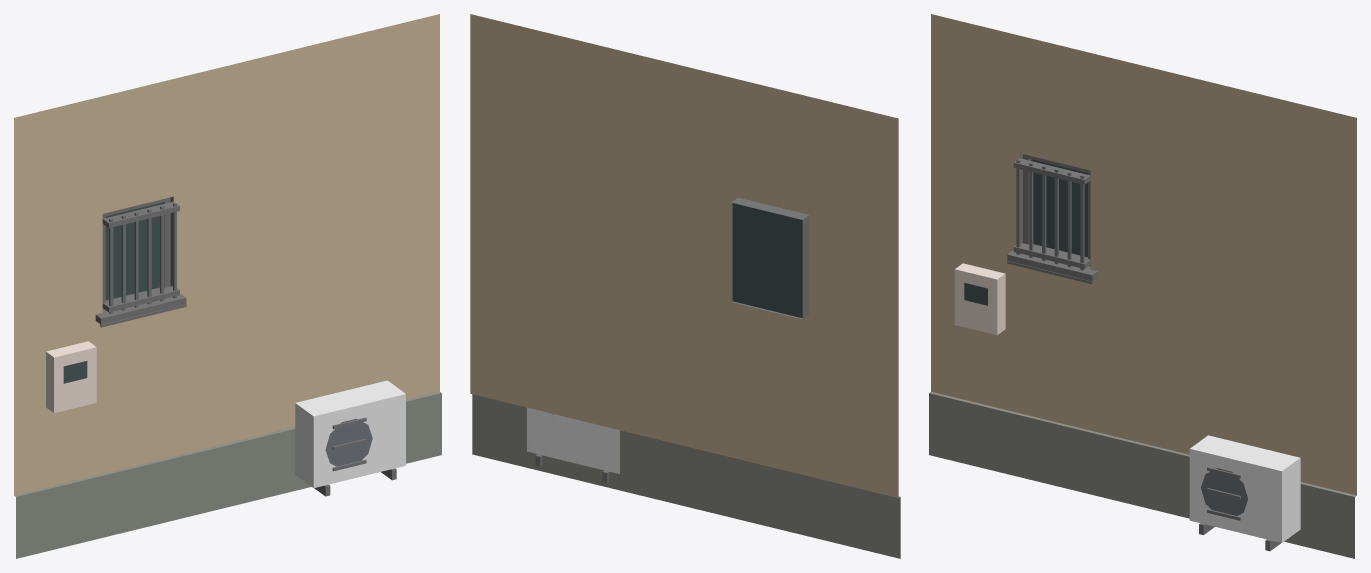
Rendered from base-w2_close.fbx.
3 views of the same model, side by side, from view 1: azimuth 30°, elevation 25°; view 2: azimuth 150°, elevation 25°; view 3: azimuth 330°, elevation 25° (orthographic).
Visible parts, largest first — view 1: a2000/400/base-w2_close; view 2: a2000/400/base-w2_close; view 3: a2000/400/base-w2_close.
Boxes of the visible parts, box(x1,y1,x2,y2) form: a2000/400/base-w2_close: box(14, 14, 441, 558); a2000/400/base-w2_close: box(470, 14, 900, 558); a2000/400/base-w2_close: box(929, 14, 1356, 558).
Bounding box in the file's own units: 3.6 × 3.55 × 0.42.
